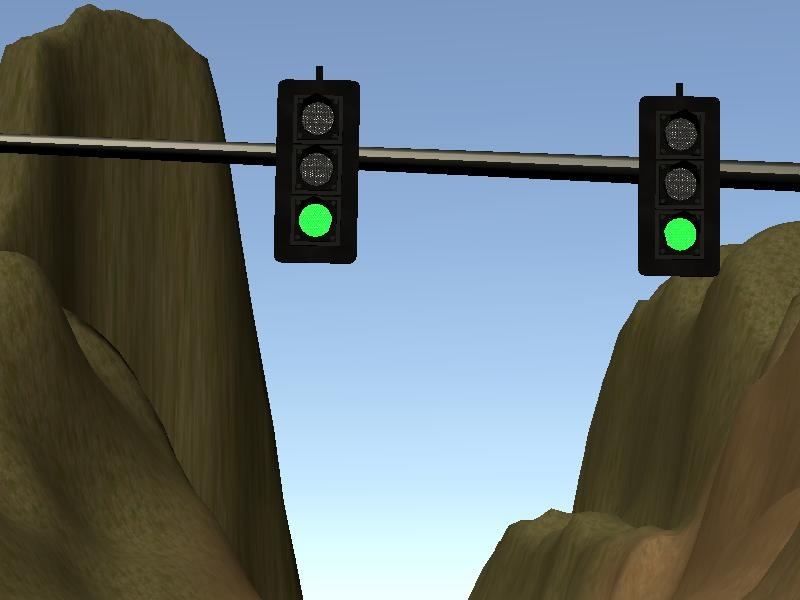GREEN: (275, 77, 360, 267), (638, 95, 720, 278)
